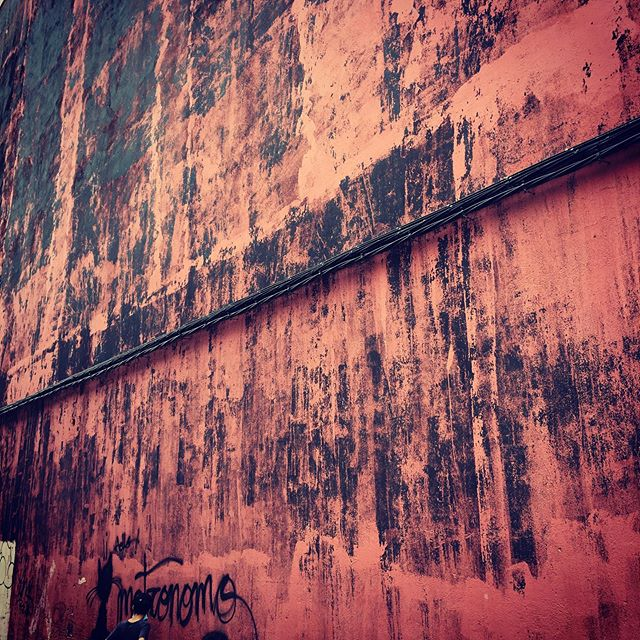graffiti: (72, 548, 257, 640)
